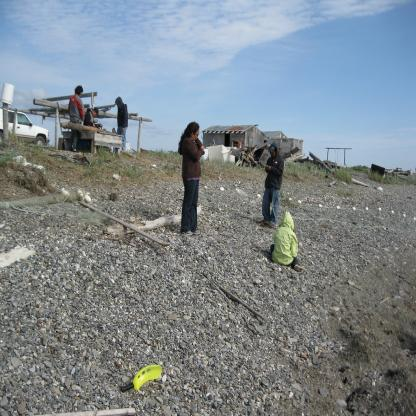person: (174, 119, 212, 242), (254, 133, 290, 233), (264, 201, 305, 284)
